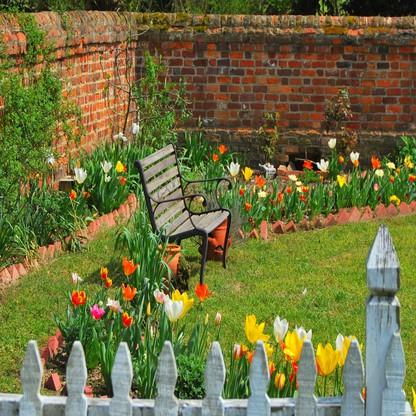obstacle: (120, 142, 246, 296)
